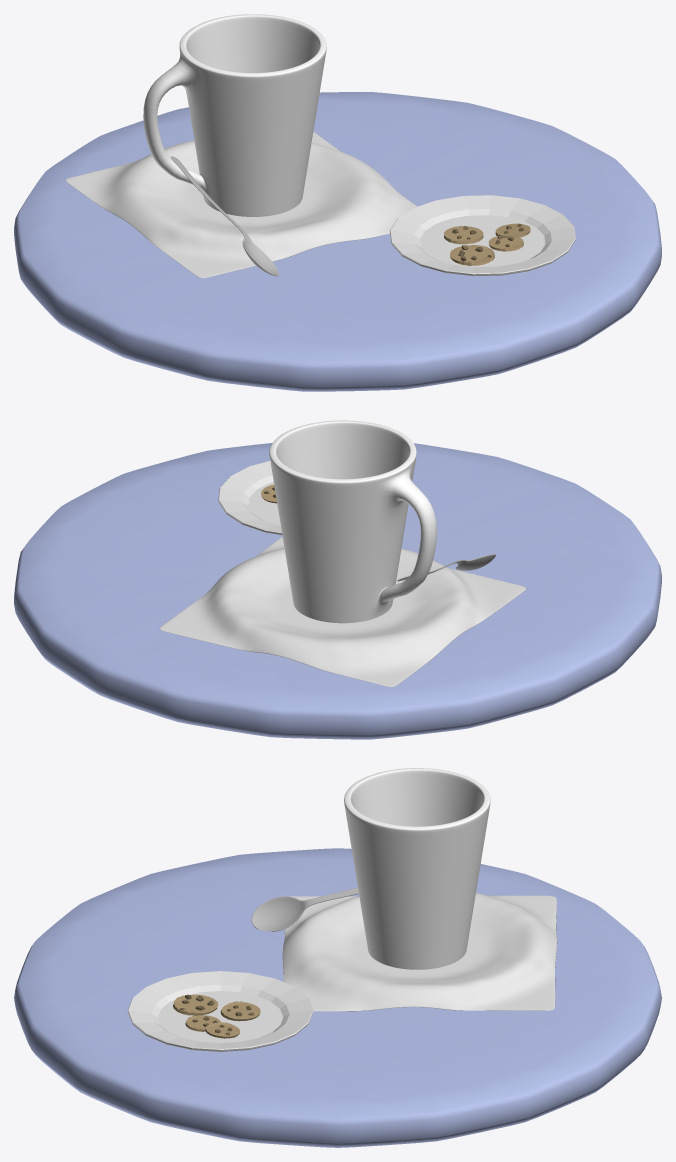
File: Tea Setting.fbx
3 renders of one model, top to bottom at view 1: azimuth 30°, elevation 25°; view 2: azimuth 150°, elevation 25°; view 3: azimuth 270°, elevation 25°, orthographic.
Visible parts, largest first — view 1: pCylinder2, Mug_Mesh, Cloth_Mesh, Plate_Mesh1, Spoon_Mesh, Cookie_Mesh2, Cookie_Mesh3; view 2: pCylinder2, Mug_Mesh, Cloth_Mesh, Plate_Mesh1, Spoon_Mesh; view 3: pCylinder2, Mug_Mesh, Cloth_Mesh, Plate_Mesh1, Spoon_Mesh, Cookie_Mesh2, Cookie_Mesh3.
Part boxes in pixels (x1=…): pCylinder2: x1=14, y1=92, x2=661, y2=391; Mug_Mesh: x1=143, y1=14, x2=326, y2=216; Cloth_Mesh: x1=65, y1=131, x2=417, y2=277; Plate_Mesh1: x1=390, y1=195, x2=575, y2=276; Spoon_Mesh: x1=171, y1=156, x2=278, y2=276; Cookie_Mesh2: x1=450, y1=245, x2=494, y2=265; Cookie_Mesh3: x1=444, y1=226, x2=483, y2=244; pCylinder2: x1=14, y1=443, x2=661, y2=739; Mug_Mesh: x1=269, y1=420, x2=436, y2=623; Cloth_Mesh: x1=159, y1=536, x2=526, y2=686; Plate_Mesh1: x1=218, y1=461, x2=282, y2=535; Spoon_Mesh: x1=397, y1=554, x2=495, y2=581; pCylinder2: x1=14, y1=848, x2=661, y2=1147; Mug_Mesh: x1=344, y1=768, x2=490, y2=969; Cloth_Mesh: x1=282, y1=893, x2=557, y2=1011; Plate_Mesh1: x1=127, y1=971, x2=313, y2=1051; Spoon_Mesh: x1=251, y1=887, x2=358, y2=931; Cookie_Mesh2: x1=173, y1=994, x2=218, y2=1015; Cookie_Mesh3: x1=220, y1=1001, x2=260, y2=1021.
Bounding box in the file's own units: 34.62 × 11.72 × 34.62.
